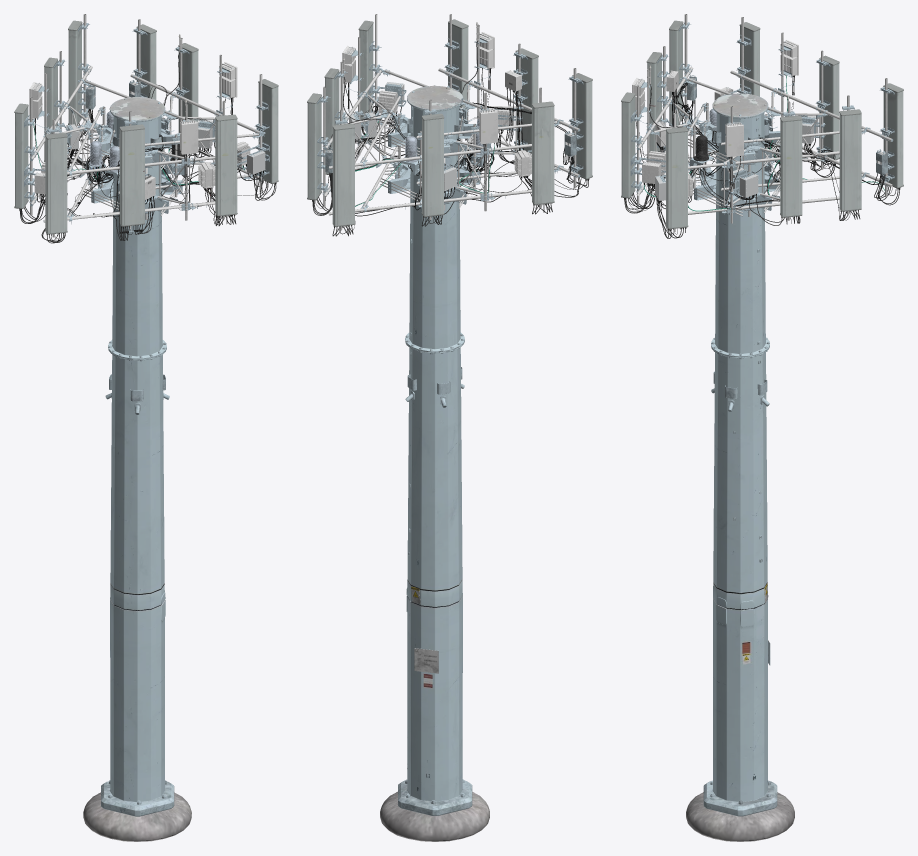
The picture shows the model from 3 angles, left to right: view 1: azimuth 30°, elevation 25°; view 2: azimuth 150°, elevation 25°; view 3: azimuth 270°, elevation 25°; orthographic projection.
Visible parts, largest first — view 1: polySurface121.002, Cellular_Antenna_02, polySurface121.001, polySurface121, polySurface278, Mini_Transformer_01; view 2: polySurface121.002, Cellular_Antenna_02, polySurface121.001, polySurface121, polySurface278, Mini_Transformer_01; view 3: polySurface121.002, Cellular_Antenna_02, polySurface121.001, polySurface121, polySurface278, Mini_Transformer_01.
Part boxes in pixels (x1,y1,x2,y2): polySurface121.002: (29,62,237,841); Cellular_Antenna_02: (14,20,278,234); polySurface121.001: (30,14,263,237); polySurface121: (24,23,269,233); polySurface278: (19,52,276,243); Mini_Transformer_01: (34,119,265,199); polySurface121.002: (325,32,576,841); Cellular_Antenna_02: (307,19,592,226); polySurface121.001: (323,14,579,229); polySurface121: (317,33,583,225); polySurface278: (312,41,589,236); Mini_Transformer_01: (349,82,514,191); polySurface121.002: (632,40,887,841); Cellular_Antenna_02: (621,20,903,229); polySurface121.001: (635,14,893,223); polySurface121: (630,22,894,226); polySurface278: (624,75,900,238); Mini_Transformer_01: (642,87,818,200).
Bounding box in the file's own units: 4.86 × 15.31 × 5.19.
Materials: 7 (5 with a texture image).
